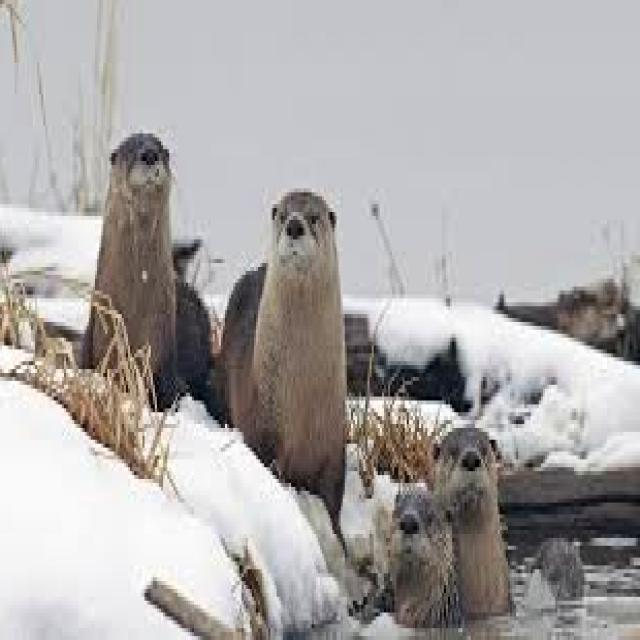otter: (221, 188, 347, 530), (97, 133, 213, 404), (434, 428, 510, 616), (392, 487, 460, 624)
